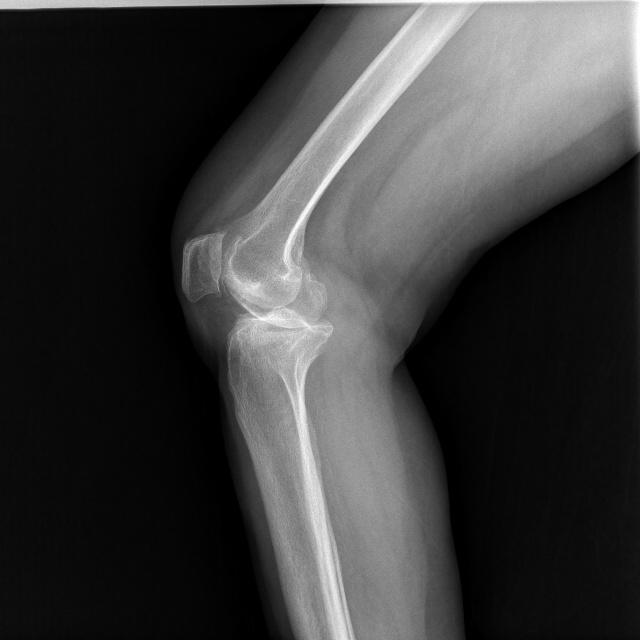Knee: (178, 227, 334, 392)
